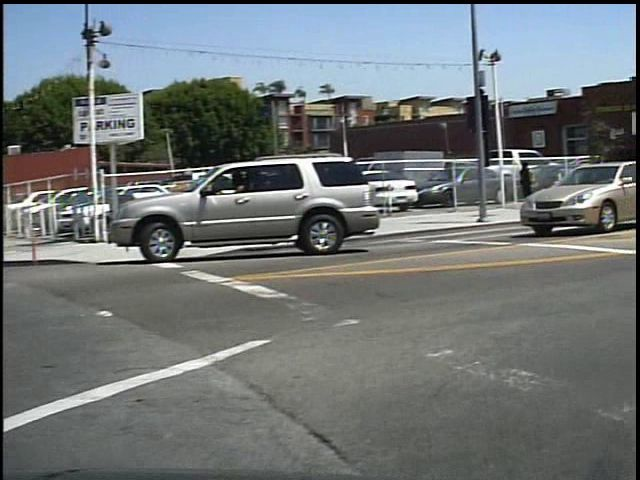person: (521, 157, 545, 213)
